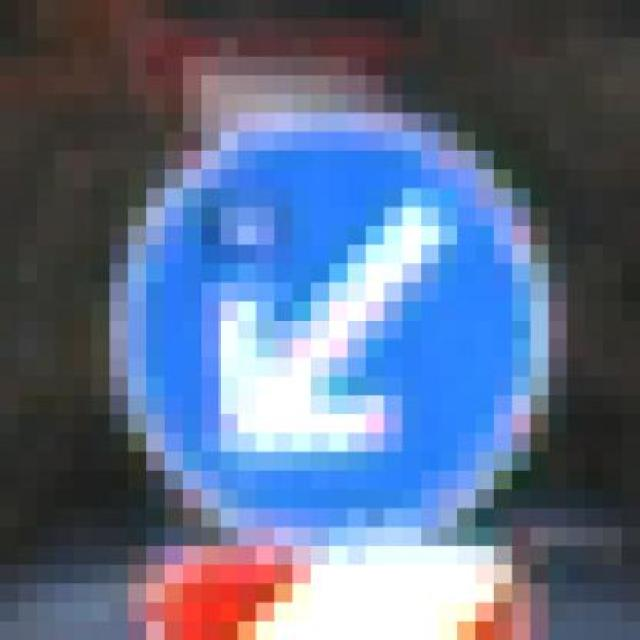Keep-Left: (109, 94, 622, 546)
